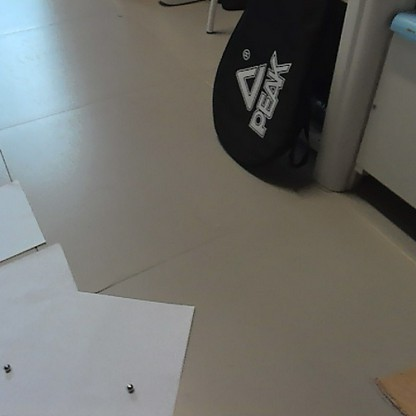ironball: (124, 382, 135, 395), (1, 361, 11, 374)
